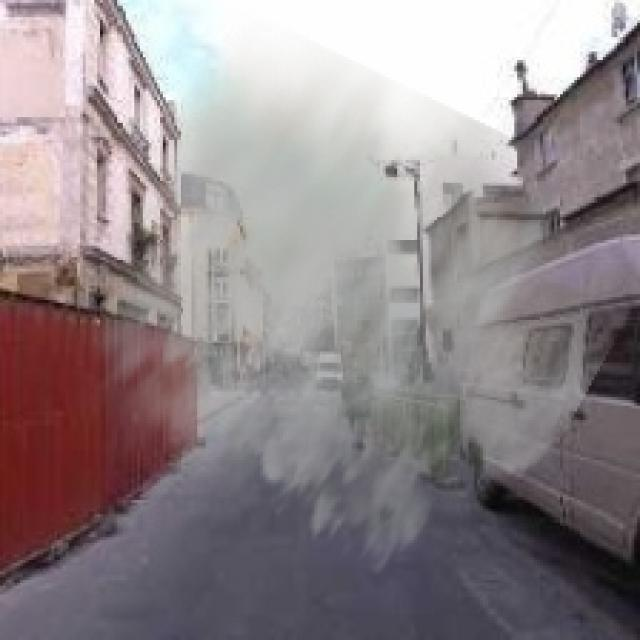Smoke: (68, 11, 634, 578)
